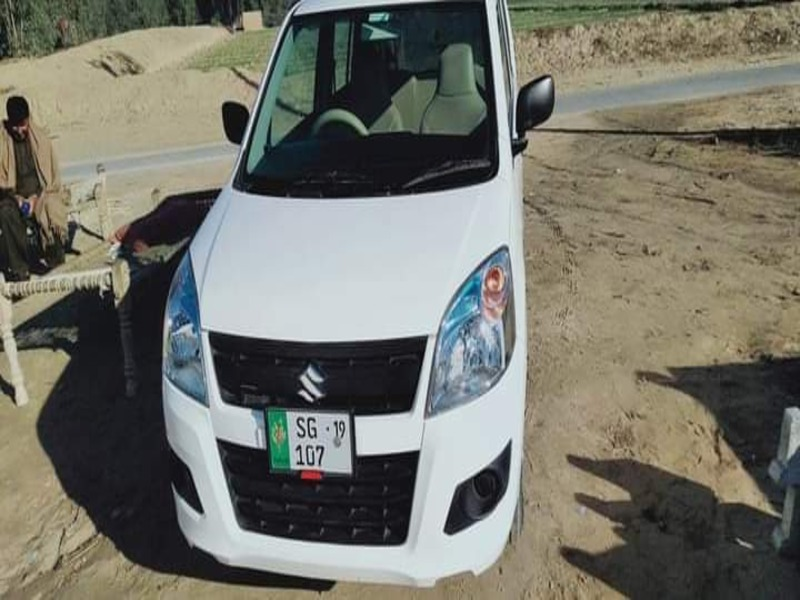License Plate: (260, 401, 364, 485)
